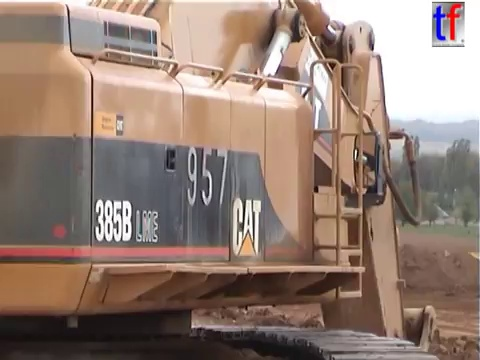excavator: (1, 1, 441, 360)
